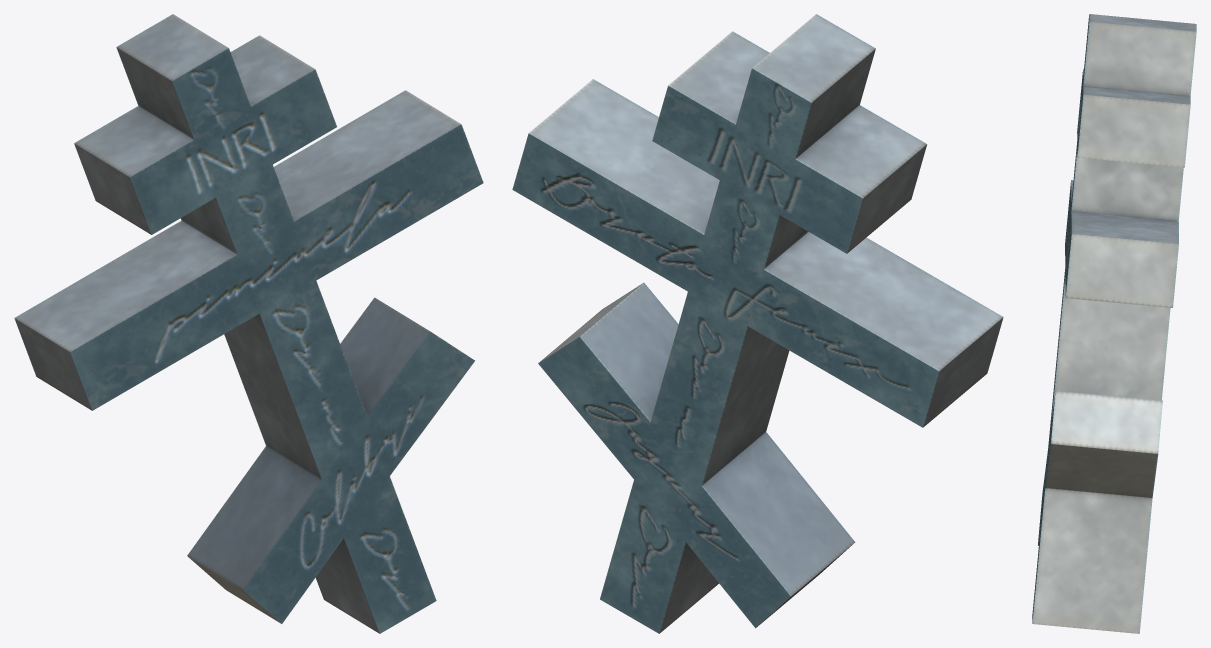
3 renders of one model, left to right at view 1: azimuth 30°, elevation 25°; view 2: azimuth 150°, elevation 25°; view 3: azimuth 270°, elevation 25°, orthographic. The views are drawn at different scales.
Visible parts, largest first — view 1: Cruz_Orto_Cube.011; view 2: Cruz_Orto_Cube.011; view 3: Cruz_Orto_Cube.011.
Part boxes in pixels (x1,y1,x2,y2): Cruz_Orto_Cube.011: [14, 14, 483, 633]; Cruz_Orto_Cube.011: [512, 14, 1003, 633]; Cruz_Orto_Cube.011: [1032, 14, 1196, 633].
Bounding box in the file's own units: 1.94 × 2.69 × 0.7303.
